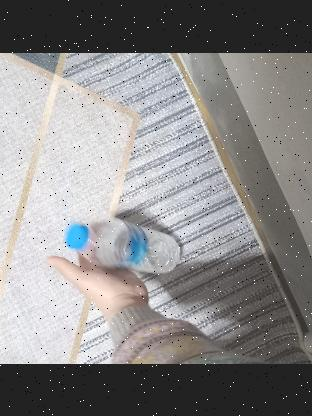Plastic Bottle: (62, 216, 181, 276)
